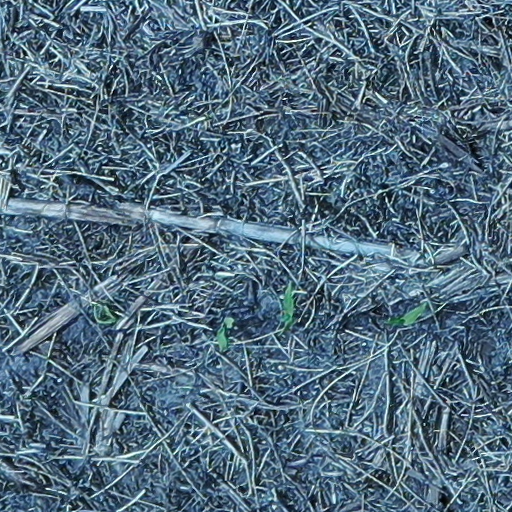planta: (386, 302, 427, 324), (282, 284, 294, 324)
